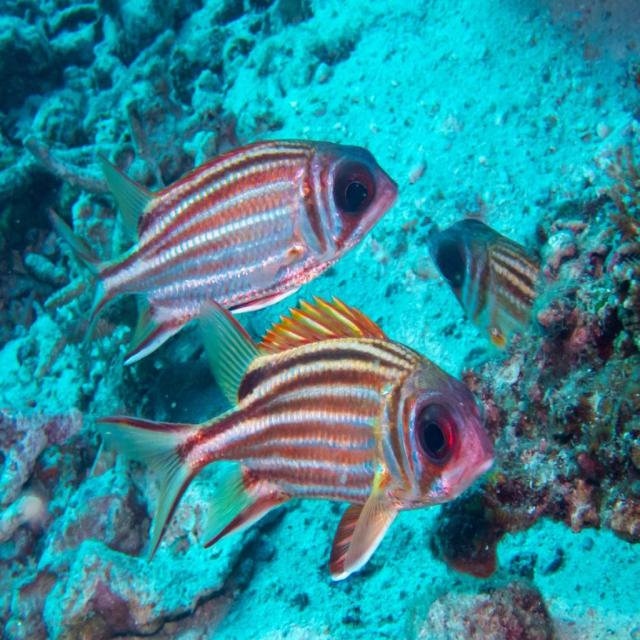Asker Baligi: (89, 292, 512, 600), (52, 88, 413, 369)
